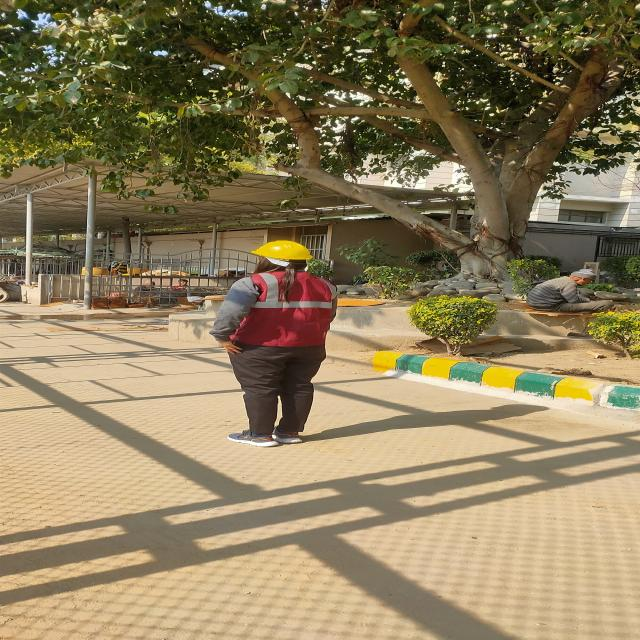safe: (210, 241, 338, 446)
unsafe: (527, 269, 614, 311)
